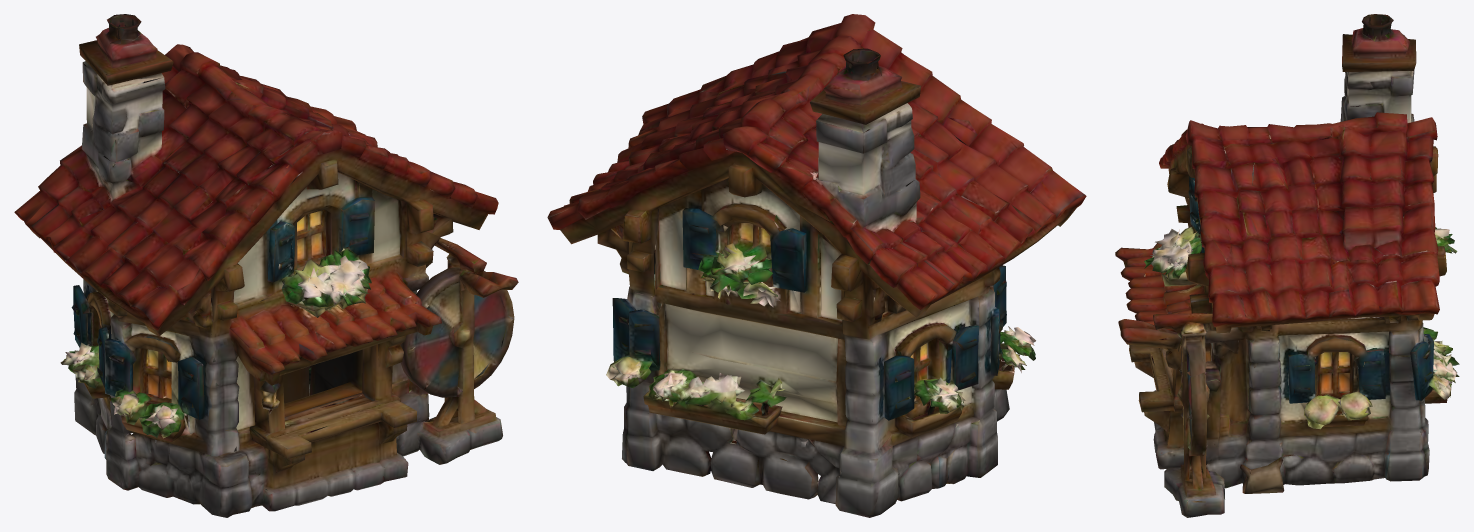
3 views of the same model, side by side, from view 1: azimuth 30°, elevation 25°; view 2: azimuth 150°, elevation 25°; view 3: azimuth 270°, elevation 25° (orthographic). The views are drawn at different scales.
Parts seen in each view (by area): view 1: alpine__chance_wheel__neural_lod, alpine__chance_wheel__neural_wheel; view 2: alpine__chance_wheel__neural_lod; view 3: alpine__chance_wheel__neural_lod, alpine__chance_wheel__neural_wheel.
Boxes of the visible parts, x1,y1,x2,y2 form: alpine__chance_wheel__neural_lod: (14,14,518,517); alpine__chance_wheel__neural_wheel: (412,283,509,393); alpine__chance_wheel__neural_lod: (547,14,1086,517); alpine__chance_wheel__neural_lod: (1115,14,1459,517); alpine__chance_wheel__neural_wheel: (1181,353,1208,452).
Size of the model in its own units: 0.9697 by 0.9988 by 0.8283.
2 materials, 1 textured.
